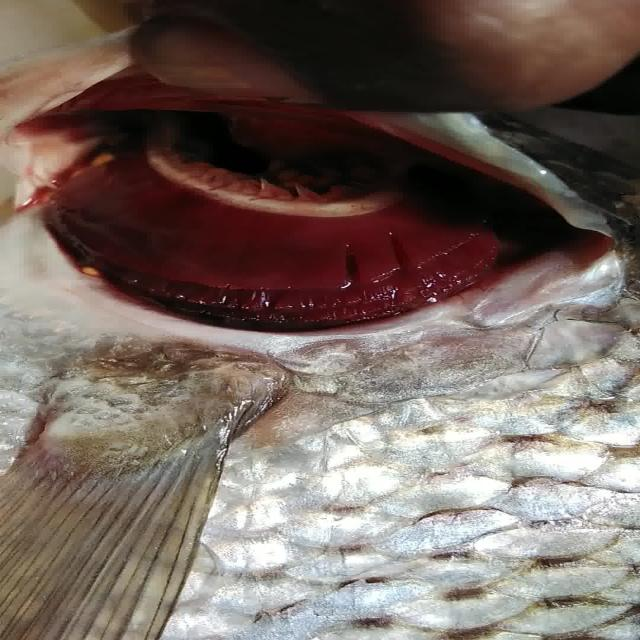Fresh: (49, 75, 596, 322)
